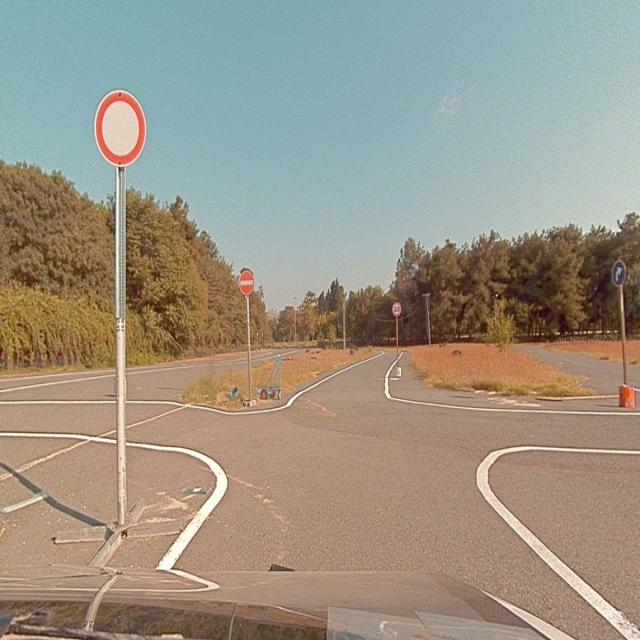20: (392, 302, 402, 315)
girisyok: (239, 271, 254, 294)
sag: (612, 260, 626, 286)
